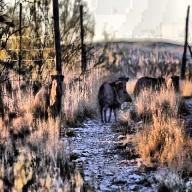boar: (95, 69, 128, 134)
